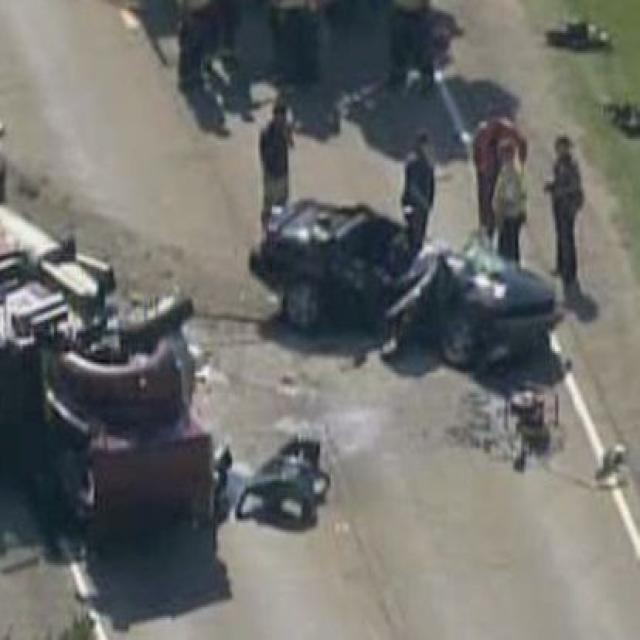traffic_incident: (235, 148, 603, 450), (0, 150, 221, 638)
